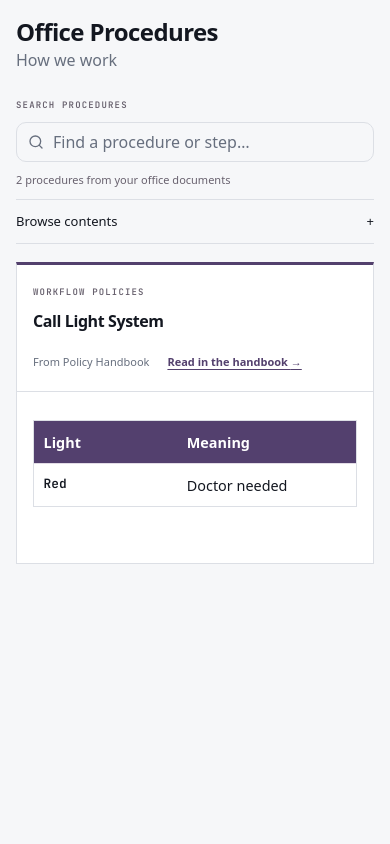
Test: SourceKnowledgeReader › opens the section named in the URL and searches section text
expect the heading "Call Light System" is shown: met, box 33,310 -> 164,332
Step 1. Type "blanket" into the field labelled "Search procedures" → (195, 142), box 16,122 -> 374,162
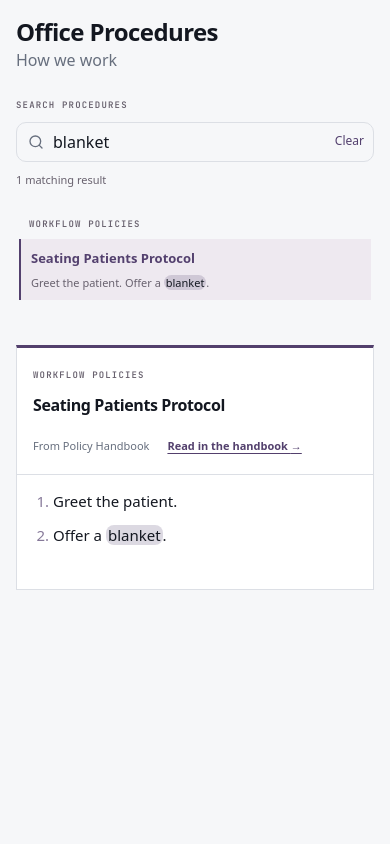
expect the message reads "1 matching result": met, box 16,172 -> 106,187
expect the heading "Seating Patients Protocol" is shown: met, box 33,394 -> 225,416
